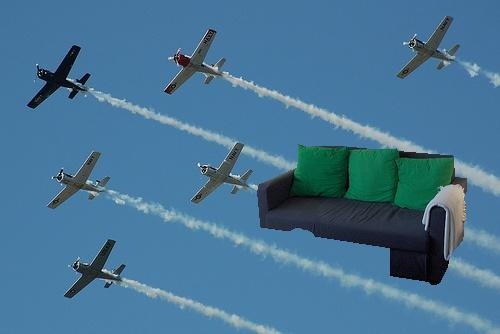tampered: (258, 145, 467, 285)
